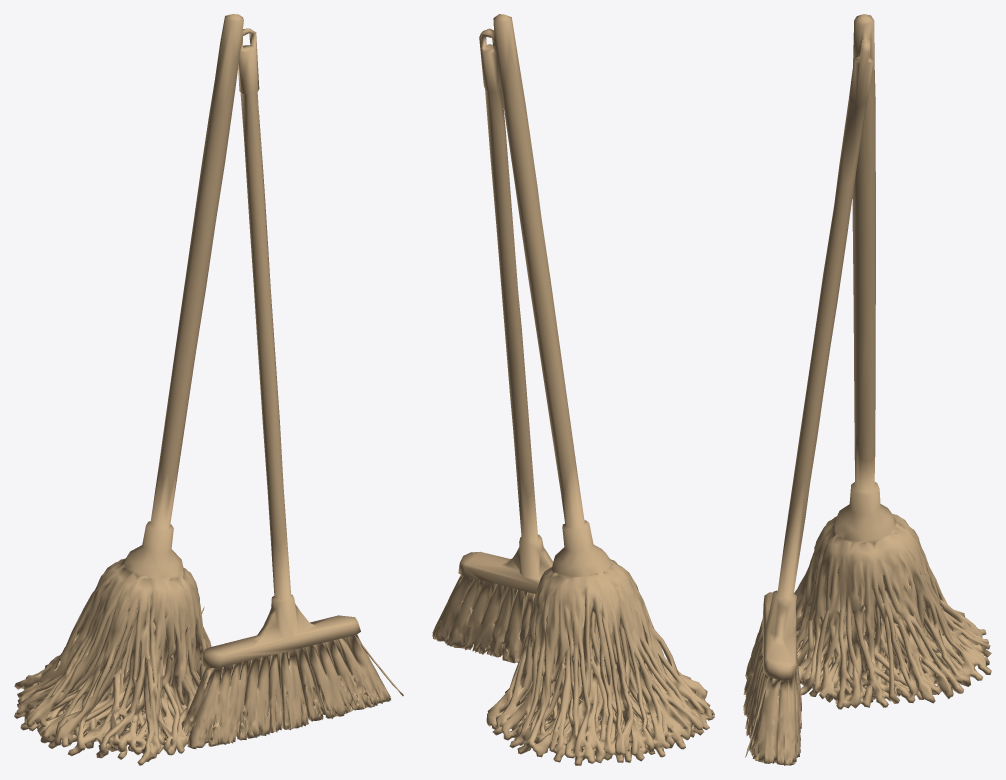
Rendered from gen-mop-broom-bundle-1.glb.
The picture shows the model from 3 angles, left to right: view 1: azimuth 30°, elevation 25°; view 2: azimuth 150°, elevation 25°; view 3: azimuth 270°, elevation 25°; orthographic projection. The views are drawn at different scales.
Visible parts, largest first — view 1: gen-mop-broom-bundle-1_part1; view 2: gen-mop-broom-bundle-1_part1; view 3: gen-mop-broom-bundle-1_part1.
Part boxes in pixels (x1=…): gen-mop-broom-bundle-1_part1: x1=14, y1=14, x2=403, y2=765; gen-mop-broom-bundle-1_part1: x1=432, y1=14, x2=714, y2=765; gen-mop-broom-bundle-1_part1: x1=743, y1=14, x2=991, y2=765.
Size of the model in its own units: 656 by 1350 by 434.
